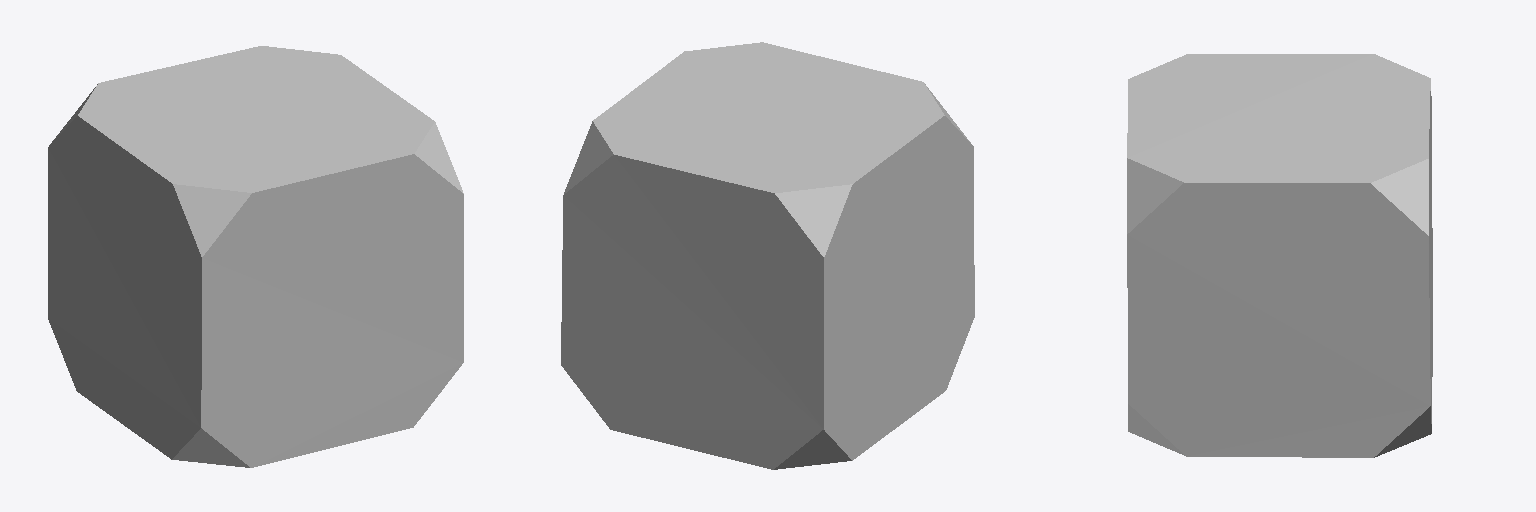
Rendered from cube_cutted_smoothed_30.obj.
3 renders of one model, left to right at view 1: azimuth 30°, elevation 25°; view 2: azimuth 150°, elevation 25°; view 3: azimuth 270°, elevation 25°, orthographic.
Size of the model in its own units: 0.7283 by 0.7283 by 0.7296.